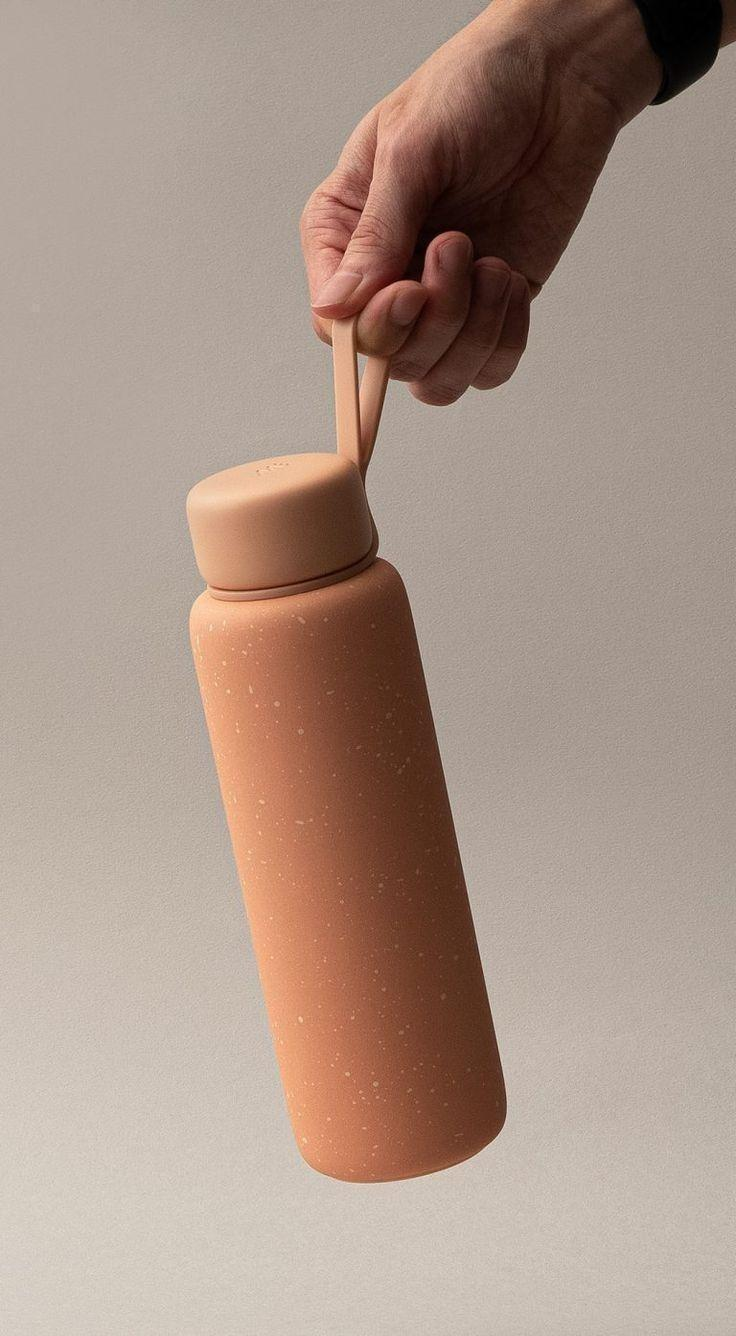gym bottle: (175, 441, 518, 1196)
